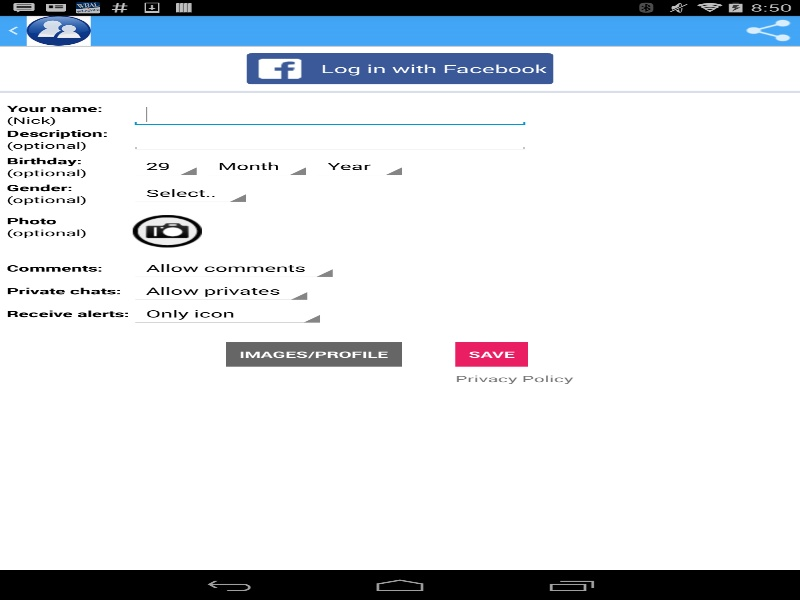Button: (246, 53, 553, 84)
Input: (130, 102, 530, 127), (130, 127, 530, 151)
